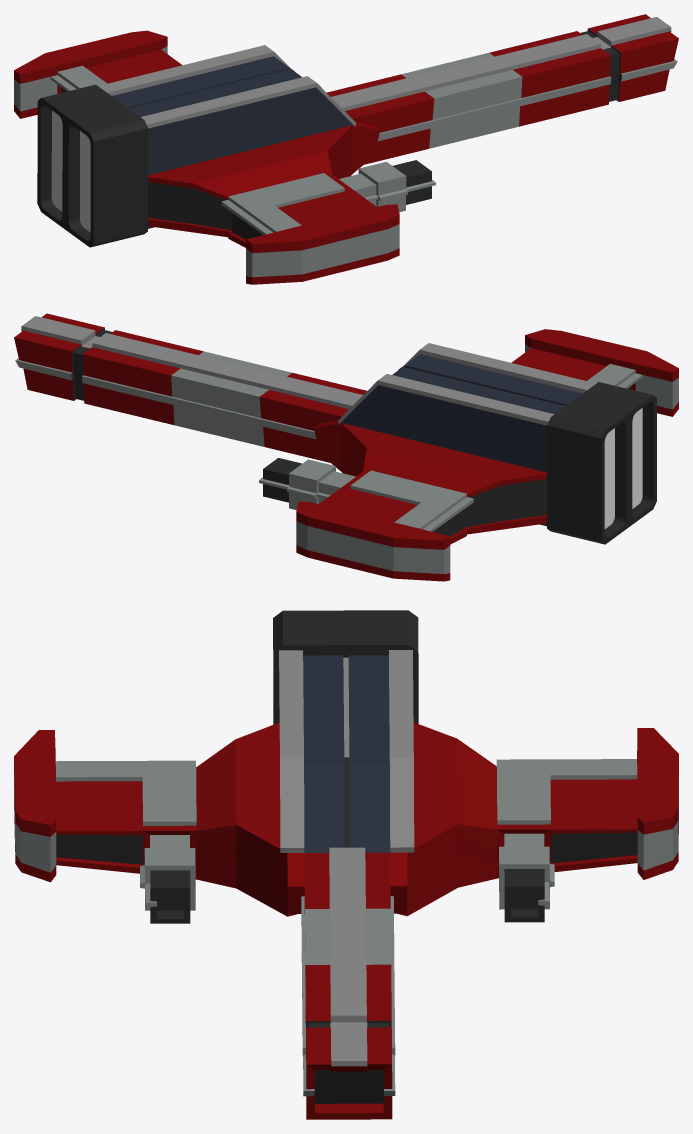
The model's file is SmallShip.fbx.
The picture shows the model from 3 angles, top to bottom: view 1: azimuth 30°, elevation 25°; view 2: azimuth 150°, elevation 25°; view 3: azimuth 270°, elevation 25°; orthographic projection. The views are drawn at different scales.
Visible parts, largest first — view 1: small ship.001; view 2: small ship.001; view 3: small ship.001.
Part boxes in pixels (x1=…): small ship.001: x1=14, y1=14, x2=678, y2=284; small ship.001: x1=14, y1=313, x2=678, y2=581; small ship.001: x1=14, y1=610, x2=678, y2=1119.
Size of the model in its own units: 25.69 by 5 by 18.97.
